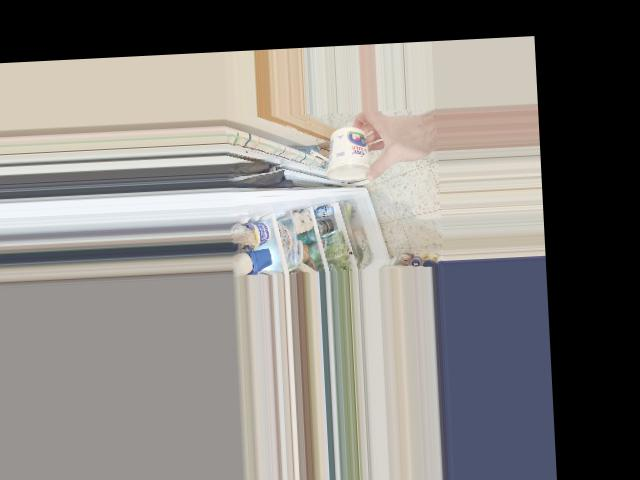cotage: (329, 128, 375, 177)
